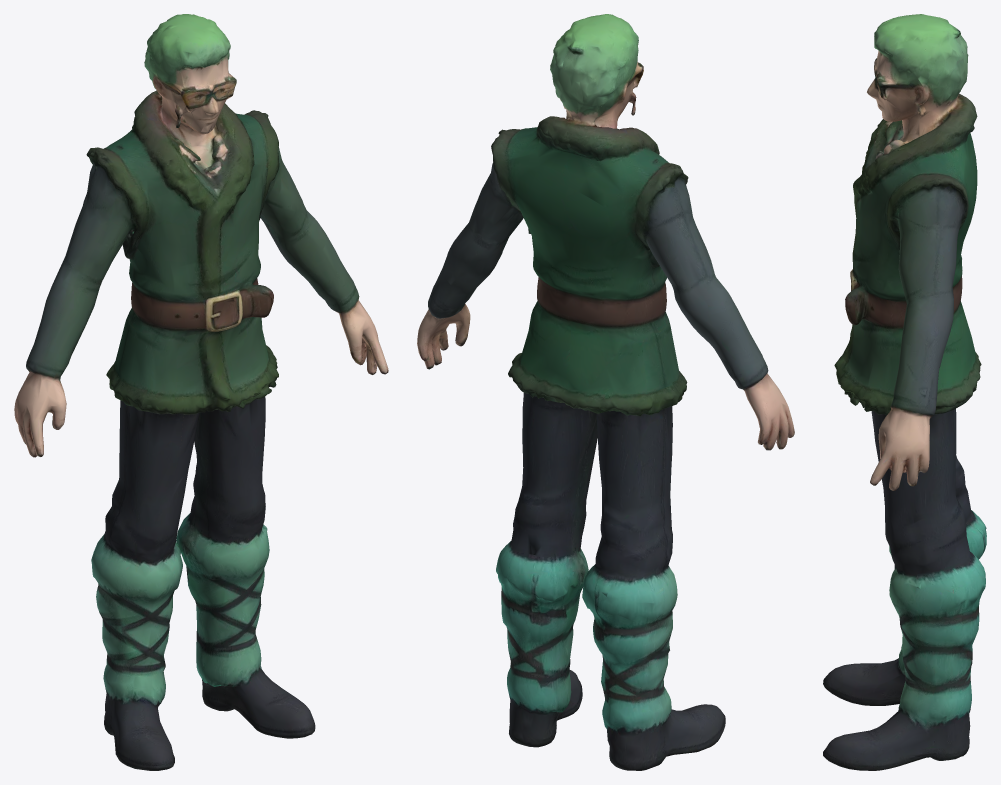
The model's file is zoro-elbaf2.opt.glb.
3 renders of one model, left to right at view 1: azimuth 30°, elevation 25°; view 2: azimuth 150°, elevation 25°; view 3: azimuth 270°, elevation 25°, orthographic. The views are drawn at different scales.
Bounding box in the file's own units: 1.05 × 2 × 0.4182.
Materials: 1 (1 with a texture image).
